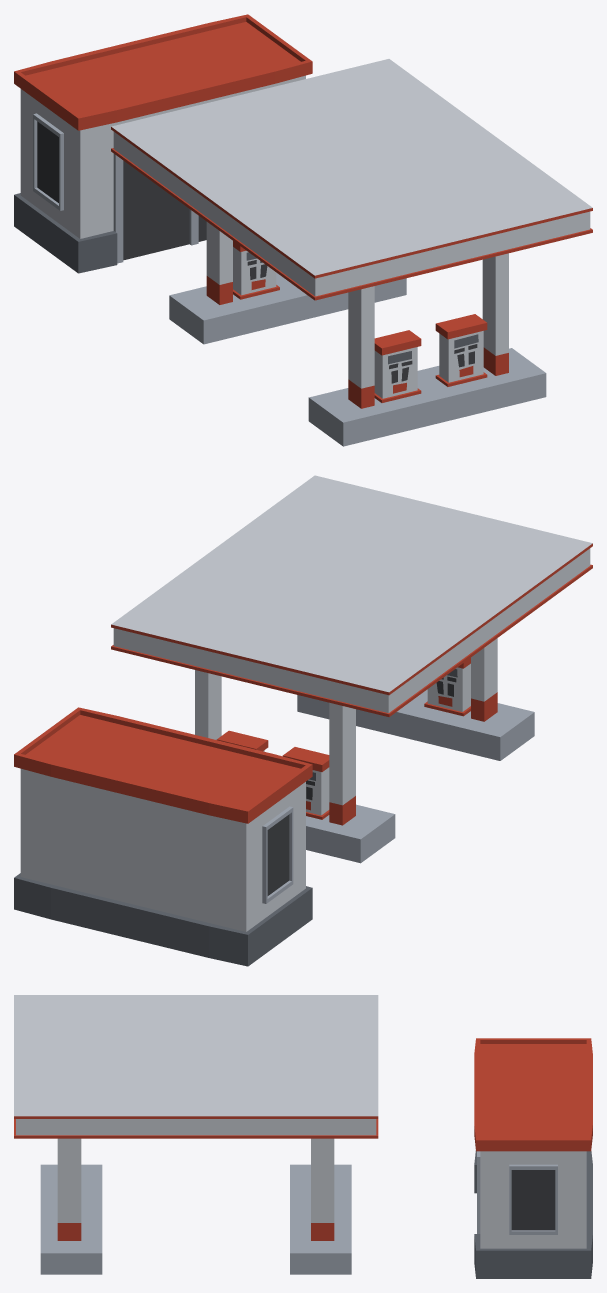
File: Building_GasStation.fbx
The picture shows the model from 3 angles, top to bottom: view 1: azimuth 30°, elevation 25°; view 2: azimuth 150°, elevation 25°; view 3: azimuth 270°, elevation 25°; orthographic projection. The views are drawn at different scales.
Visible parts, largest first — view 1: Building_GasStation; view 2: Building_GasStation; view 3: Building_GasStation.
Boxes of the visible parts, x1=… form: Building_GasStation: x1=14, y1=14, x2=592, y2=446; Building_GasStation: x1=14, y1=475, x2=592, y2=966; Building_GasStation: x1=14, y1=995, x2=592, y2=1278.
Size of the model in its own units: 1180 by 780 by 2380.
